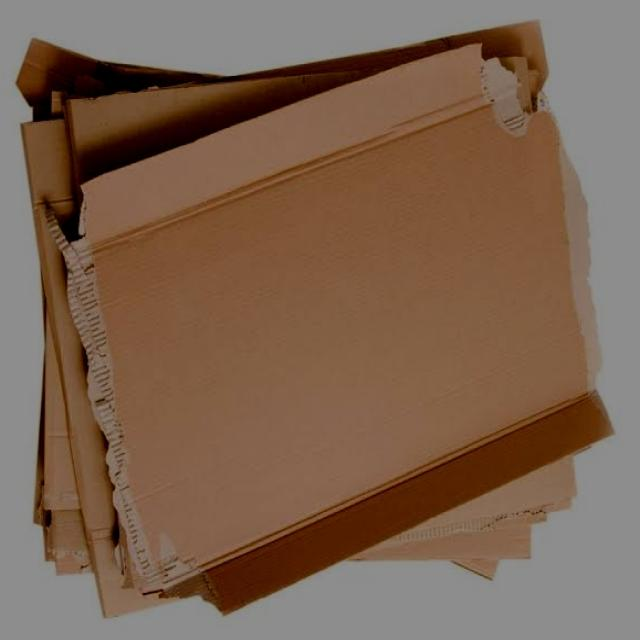paper: (15, 11, 621, 623)
